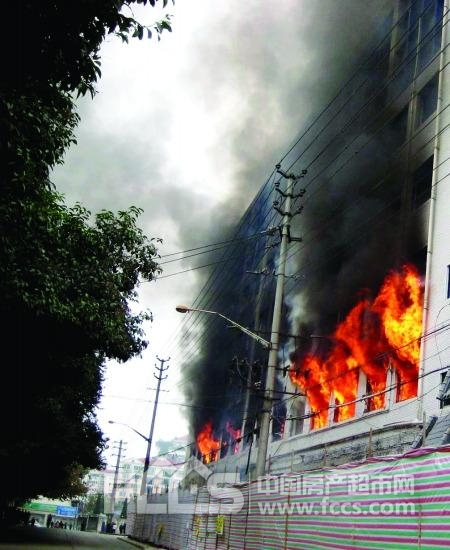fire: (277, 270, 431, 409)
smoke: (231, 36, 410, 257)
